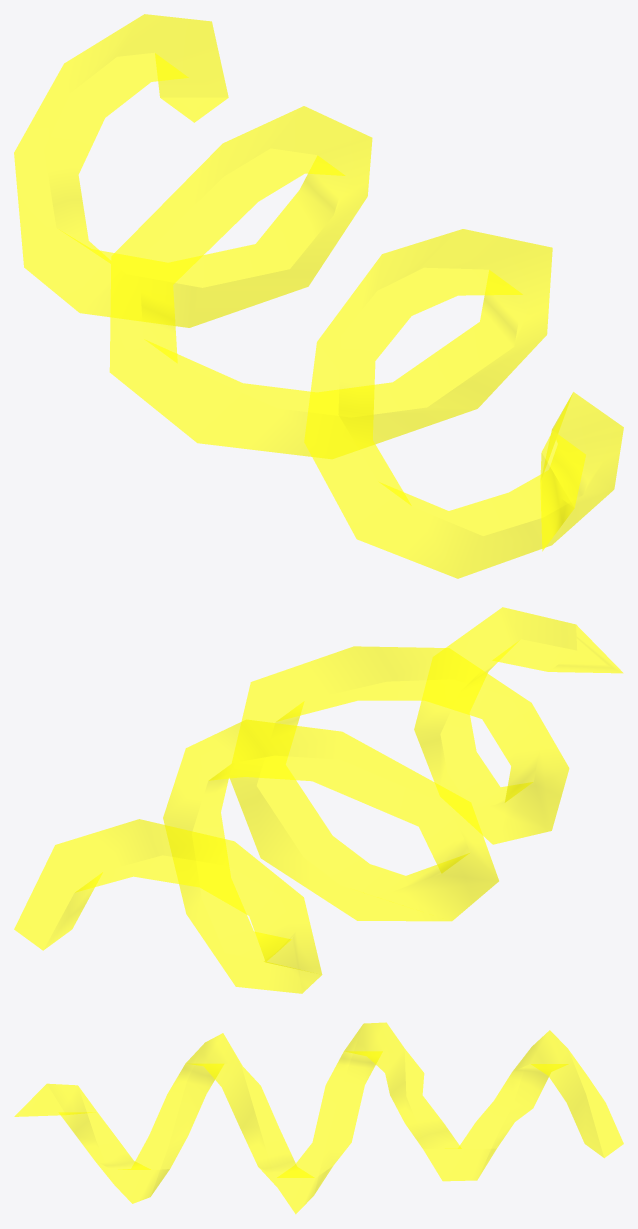
File: LightningProjectile.fbx
3 renders of one model, top to bottom at view 1: azimuth 30°, elevation 25°; view 2: azimuth 150°, elevation 25°; view 3: azimuth 270°, elevation 25°, orthographic. The views are drawn at different scales.
Visible parts, largest first — view 1: pHelix1; view 2: pHelix1; view 3: pHelix1.
Part boxes in pixels (left/top/right/bottom): pHelix1: left=14, top=14, right=623, bottom=578; pHelix1: left=14, top=607, right=622, bottom=993; pHelix1: left=14, top=1022, right=623, bottom=1213.
Bounding box in the file's own units: 2.61 × 1.94 × 6.38.
